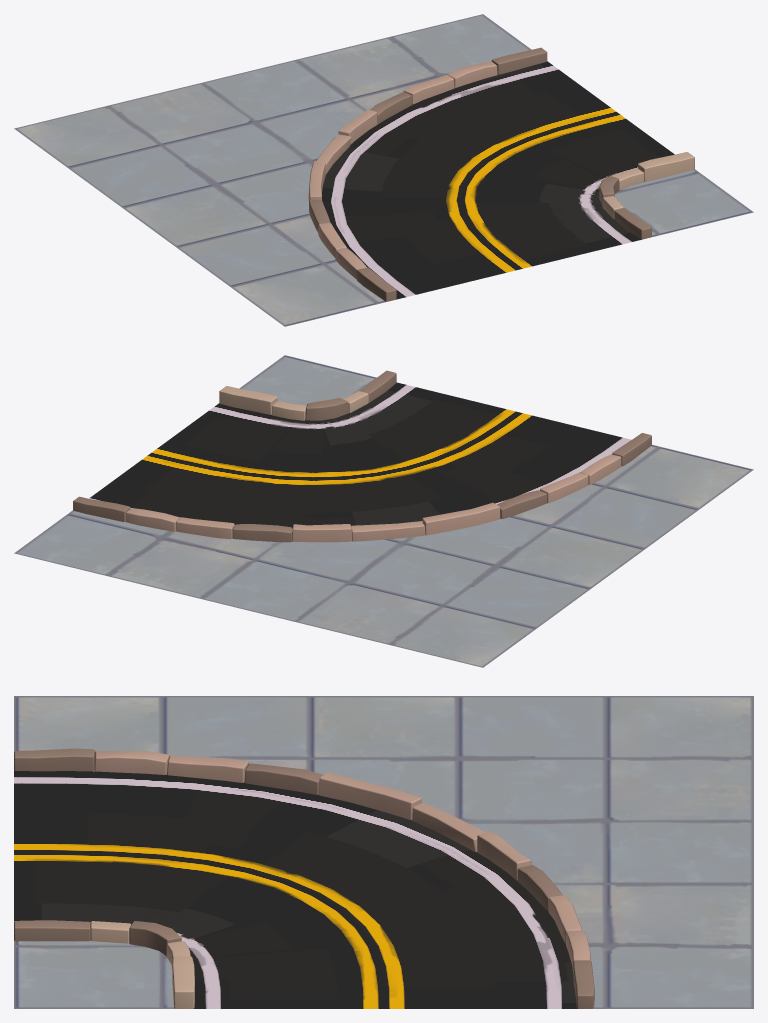
Rendered from CityRoad_turnNarrow.fbx.
3 renders of one model, top to bottom at view 1: azimuth 30°, elevation 25°; view 2: azimuth 150°, elevation 25°; view 3: azimuth 270°, elevation 25°, orthographic. The views are drawn at different scales.
Parts seen in each view (by area): view 1: CityRoad_turnNarrow_mesh; view 2: CityRoad_turnNarrow_mesh; view 3: CityRoad_turnNarrow_mesh.
Boxes of the visible parts, <box> form: CityRoad_turnNarrow_mesh: <box>14,14,753,326</box>; CityRoad_turnNarrow_mesh: <box>14,355,753,667</box>; CityRoad_turnNarrow_mesh: <box>14,696,753,1008</box>.
Size of the model in its own units: 1000 by 28.55 by 1000.
